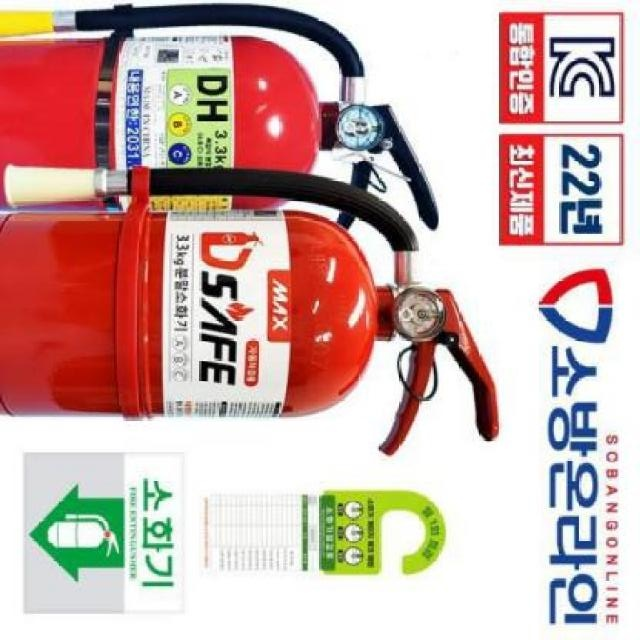fire extinguisher: (0, 163, 502, 459), (0, 1, 439, 233)
